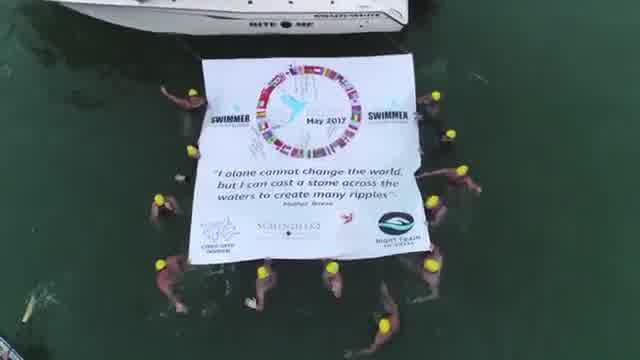human: (354, 280, 400, 360), (150, 256, 190, 317), (406, 248, 446, 305), (242, 257, 282, 313), (416, 166, 488, 194), (158, 84, 208, 112), (146, 191, 184, 225), (317, 262, 343, 302), (423, 193, 449, 230), (414, 96, 446, 120)
